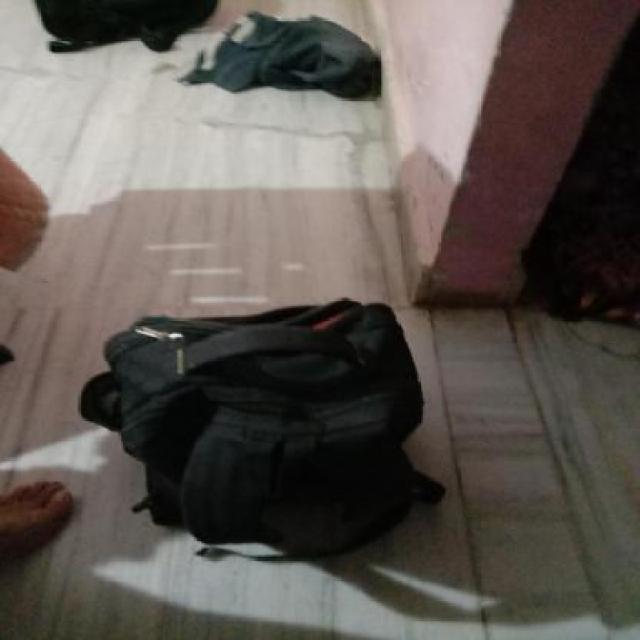backpack: (77, 296, 451, 566)
